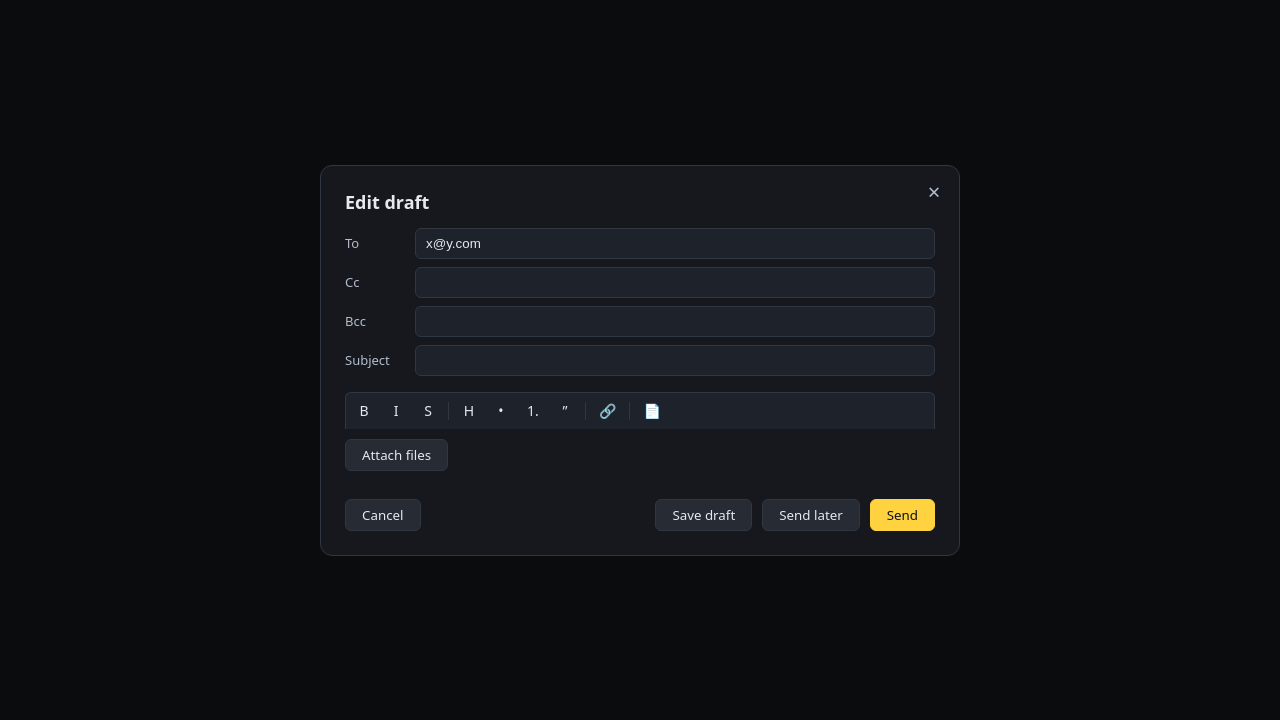
Scenario: ComposeModal: superseding a draft and the remaining send paths › keeps the window and the old draft when saving the draft fails
The width and height of the screenshot is (1280, 720).
Click the button "Save draft": (704, 514) [655, 498, 752, 530]
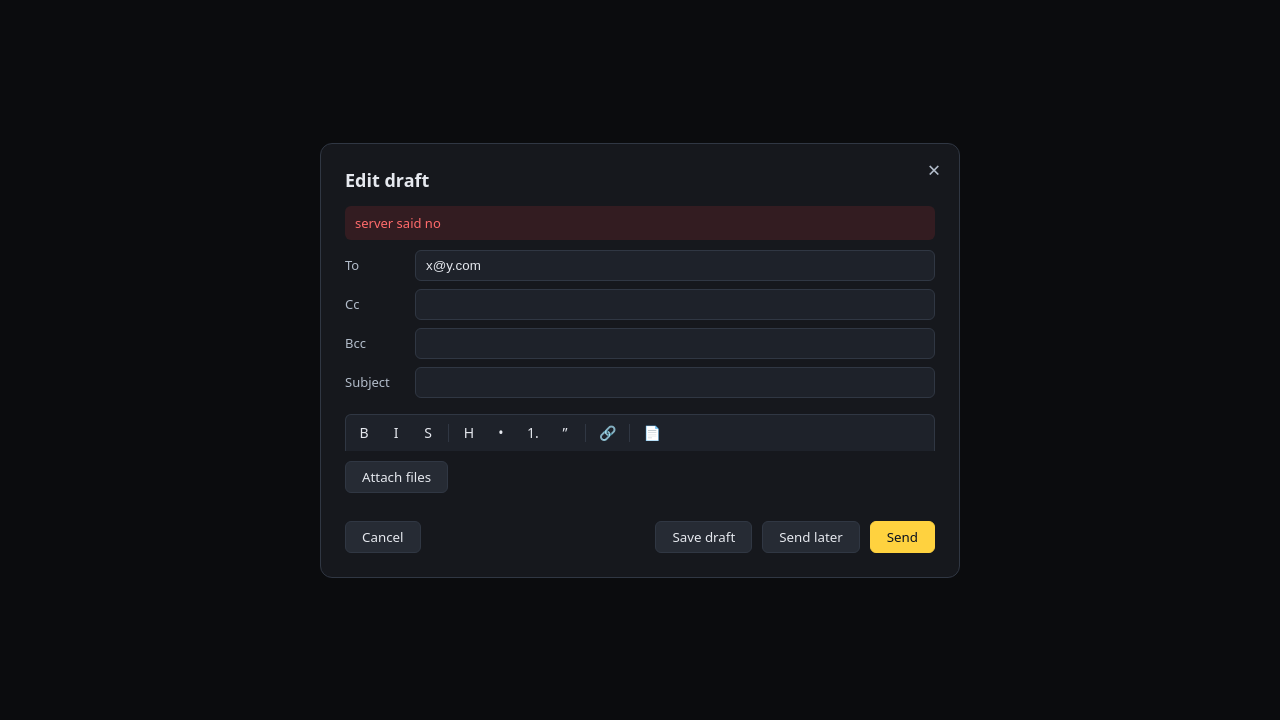
Check: the button "Save draft" is enabled, box [655, 520, 752, 552]
Check: the text "server said no" is shown, box [345, 206, 935, 240]
